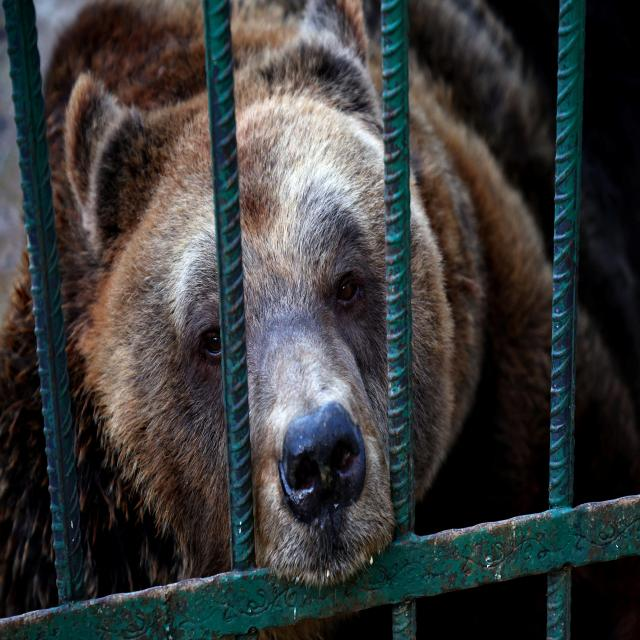Bear: (0, 0, 555, 620)
